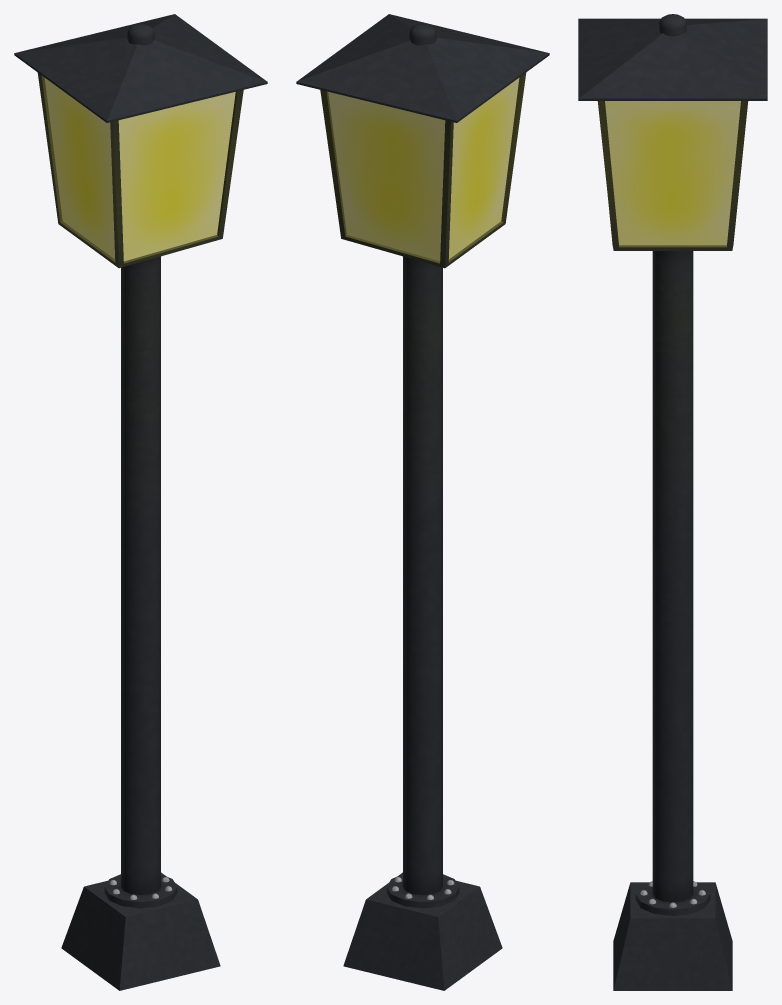
File: faro.obj
3 views of the same model, side by side, from view 1: azimuth 30°, elevation 25°; view 2: azimuth 150°, elevation 25°; view 3: azimuth 270°, elevation 25° (orthographic).
Parts seen in each view (by area): view 1: Cylinder001; view 2: Cylinder001; view 3: Cylinder001.
Boxes of the visible parts, box(x1,y1,x2,y2) form: Cylinder001: box(14, 14, 267, 990); Cylinder001: box(296, 14, 549, 990); Cylinder001: box(578, 14, 767, 990).
Size of the model in its own units: 44.59 by 247 by 44.59.
